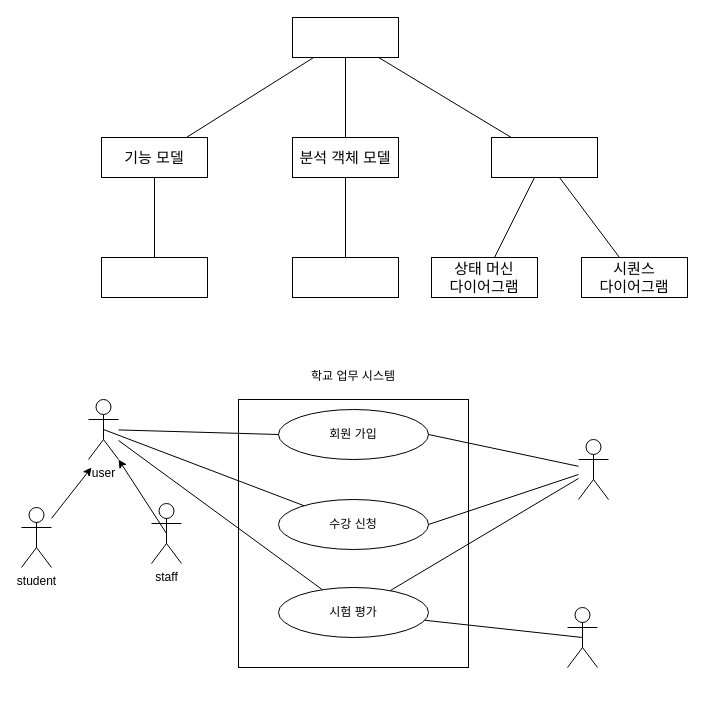
Image size: 705x706. Some labels were removed from this diagram. Each missing label, with the centre of its shape:
database: the point at 593,469
동적 모델: the point at 544,157
분석 모델: the point at 345,37
유스케이스 다이어그램: the point at 154,277
클래스 다이어그램: the point at 345,277
평가 데이터 관리 시스템: the point at 582,637
